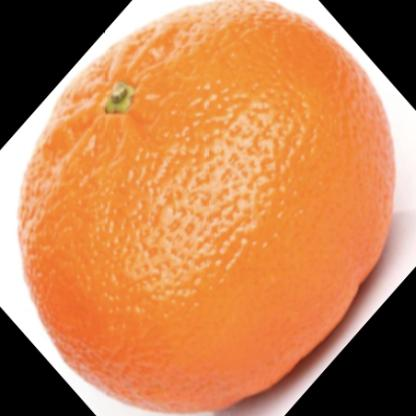fresh: (20, 3, 394, 412)
